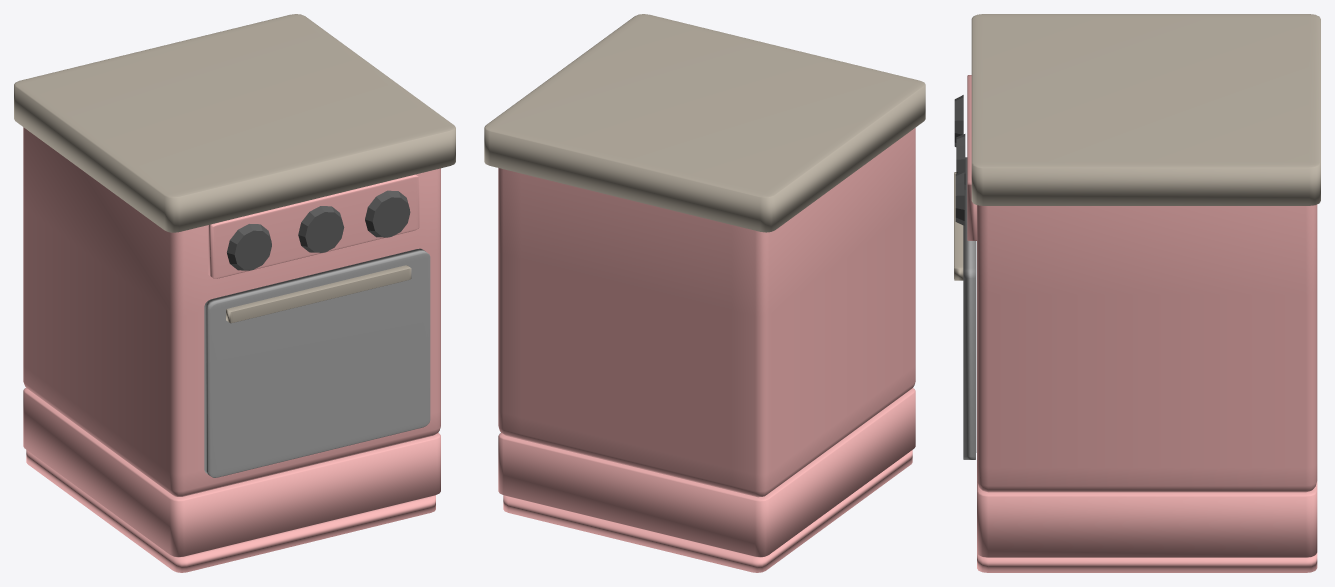
File: oven.fbx
3 views of the same model, side by side, from view 1: azimuth 30°, elevation 25°; view 2: azimuth 150°, elevation 25°; view 3: azimuth 270°, elevation 25° (orthographic). The views are drawn at different scales.
Visible parts, largest first — view 1: Cube.003, Cube, Cube.004, Cube.001, Cube.005, Cube.002, Cube.006, Cylinder.001, Cylinder.002, Cylinder; view 2: Cube, Cube.003, Cube.001, Cube.002; view 3: Cube, Cube.003, Cube.001, Cube.002, Cube.004, Cube.005, Cube.006, Cylinder.002.
Part boxes in pixels (x1,y1,x2,y2): Cube.003: [14, 14, 455, 232]; Cube: [23, 127, 440, 496]; Cube.004: [204, 248, 430, 477]; Cube.001: [23, 388, 440, 557]; Cube.005: [208, 174, 419, 278]; Cube.002: [26, 450, 435, 572]; Cube.006: [226, 265, 411, 323]; Cylinder.001: [298, 206, 344, 252]; Cylinder.002: [365, 190, 410, 237]; Cylinder: [227, 224, 271, 270]; Cube: [498, 128, 915, 497]; Cube.003: [484, 14, 925, 232]; Cube.001: [498, 388, 915, 557]; Cube.002: [503, 450, 912, 572]; Cube: [977, 204, 1317, 492]; Cube.003: [971, 14, 1320, 205]; Cube.001: [977, 481, 1317, 557]; Cube.002: [977, 553, 1317, 572]; Cube.004: [963, 157, 976, 459]; Cube.005: [967, 75, 976, 240]; Cube.006: [954, 172, 963, 280]; Cylinder.002: [955, 170, 964, 225].
Size of the model in its own units: 645 by 809 by 647.
